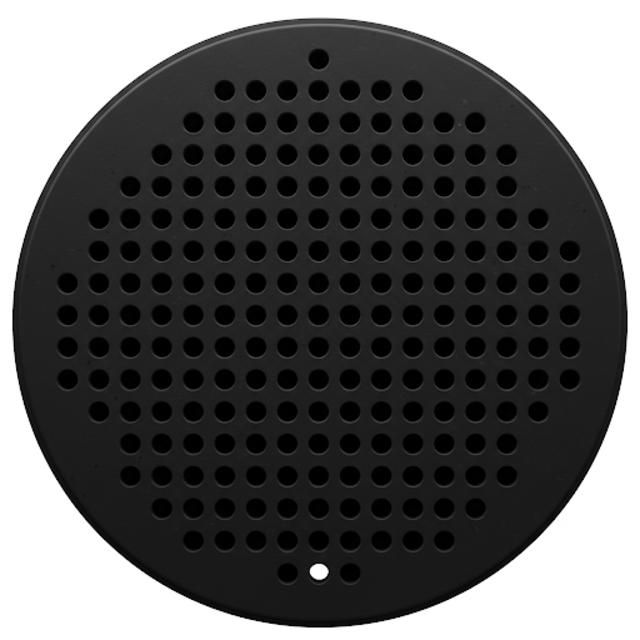Hole: (210, 76, 240, 105), (336, 494, 364, 522), (431, 526, 459, 554), (274, 140, 301, 168), (272, 561, 303, 585), (305, 46, 333, 72), (398, 496, 426, 522), (305, 526, 333, 552), (368, 367, 397, 392), (427, 143, 458, 166), (393, 207, 424, 230), (364, 207, 395, 230), (332, 175, 363, 198), (243, 332, 269, 359), (400, 334, 426, 361), (369, 526, 395, 553), (275, 108, 300, 136), (54, 367, 82, 392), (336, 400, 365, 424), (399, 78, 428, 102), (394, 175, 424, 198), (369, 109, 395, 135), (274, 76, 300, 102), (118, 173, 144, 199), (243, 140, 269, 166), (368, 335, 394, 361), (244, 463, 270, 489), (305, 463, 331, 489), (181, 496, 207, 522), (150, 463, 175, 490), (494, 462, 521, 487), (429, 303, 457, 327), (430, 109, 458, 133), (524, 206, 552, 230), (306, 239, 334, 263), (211, 141, 239, 165), (273, 238, 301, 262), (398, 464, 426, 488), (213, 494, 237, 522), (180, 527, 208, 551), (365, 175, 394, 198), (458, 143, 487, 166), (369, 76, 394, 102), (148, 142, 174, 167), (212, 463, 238, 488), (275, 463, 300, 489), (338, 463, 363, 489), (463, 462, 489, 487), (432, 497, 458, 522), (463, 495, 489, 520), (555, 239, 582, 263), (494, 141, 521, 165), (368, 271, 395, 295), (245, 367, 269, 394), (243, 496, 270, 520), (243, 527, 270, 551), (397, 143, 425, 166), (336, 111, 364, 134), (242, 271, 270, 294), (366, 495, 394, 518), (210, 239, 239, 261), (457, 337, 487, 358), (339, 270, 364, 295), (213, 205, 238, 230), (308, 333, 333, 358), (212, 527, 237, 552), (55, 332, 79, 358), (55, 301, 79, 327), (399, 367, 425, 391), (276, 174, 302, 198), (276, 269, 300, 295), (308, 269, 332, 295), (337, 336, 363, 360), (494, 431, 520, 455), (148, 398, 174, 422), (402, 527, 426, 553), (430, 207, 457, 230), (430, 240, 457, 263), (461, 240, 488, 263), (525, 304, 552, 327), (335, 143, 362, 166), (336, 207, 363, 230), (430, 368, 457, 391), (459, 304, 486, 327), (305, 398, 332, 421), (148, 497, 175, 520), (492, 208, 520, 230), (87, 206, 111, 231), (55, 270, 79, 295), (556, 303, 581, 327), (367, 463, 392, 487), (338, 77, 362, 102), (306, 78, 331, 102), (182, 109, 206, 134), (244, 109, 268, 134), (212, 174, 237, 198), (245, 206, 270, 230), (276, 207, 301, 231), (246, 239, 271, 263), (369, 303, 394, 327), (494, 367, 519, 391), (87, 400, 111, 425), (117, 399, 141, 424), (212, 398, 237, 422), (276, 399, 300, 424), (244, 432, 269, 456), (274, 528, 299, 552), (338, 529, 363, 553), (340, 562, 364, 587), (524, 240, 550, 263), (492, 240, 518, 263), (306, 175, 332, 198), (369, 400, 395, 423), (214, 332, 237, 358), (464, 108, 487, 134), (306, 206, 332, 229), (339, 366, 362, 392), (180, 431, 206, 454), (432, 462, 455, 488), (461, 208, 488, 230), (429, 337, 457, 358), (557, 271, 581, 295), (182, 367, 206, 391), (213, 303, 237, 327), (214, 109, 238, 133), (213, 271, 237, 295), (118, 464, 142, 488), (400, 240, 425, 263), (462, 272, 487, 295), (370, 240, 395, 263), (216, 367, 239, 392), (367, 431, 392, 454), (244, 77, 267, 102), (245, 172, 268, 197), (183, 205, 206, 230), (463, 432, 488, 455), (276, 367, 299, 392), (182, 463, 205, 488), (274, 335, 300, 357), (495, 401, 521, 423), (430, 176, 457, 197), (398, 112, 425, 133), (461, 176, 488, 197), (525, 337, 552, 358), (493, 176, 520, 197), (495, 304, 519, 327), (401, 272, 425, 295), (120, 303, 143, 327), (120, 335, 143, 359), (151, 240, 175, 263), (151, 175, 175, 198), (400, 399, 424, 422), (400, 431, 424, 454), (464, 367, 487, 391), (120, 367, 143, 391), (403, 304, 426, 328), (118, 432, 142, 455), (244, 398, 266, 423), (273, 431, 298, 453), (430, 273, 456, 294), (524, 273, 550, 294), (370, 143, 393, 166), (120, 271, 143, 294), (183, 143, 206, 166), (432, 399, 455, 422), (432, 431, 455, 454), (183, 240, 206, 263), (212, 431, 235, 454), (340, 432, 363, 455), (307, 496, 330, 519), (88, 239, 110, 263), (340, 238, 362, 262), (244, 304, 268, 326), (306, 303, 328, 327), (558, 336, 582, 358), (463, 400, 487, 422), (308, 367, 330, 391), (276, 497, 300, 519), (494, 273, 519, 294), (185, 334, 206, 359), (494, 337, 519, 358), (120, 208, 143, 230), (308, 143, 330, 166), (120, 240, 143, 262), (529, 368, 551, 391), (308, 431, 330, 454), (89, 303, 110, 327), (310, 109, 331, 133), (89, 367, 110, 391), (184, 175, 205, 199), (338, 304, 362, 325), (275, 304, 299, 325), (527, 400, 551, 421), (185, 399, 205, 424), (558, 368, 583, 388), (185, 272, 206, 295), (153, 303, 173, 327), (153, 335, 173, 359), (185, 303, 205, 327), (153, 367, 173, 391), (153, 208, 174, 230), (151, 431, 173, 452), (153, 272, 173, 295), (89, 272, 110, 293), (89, 336, 110, 357)
